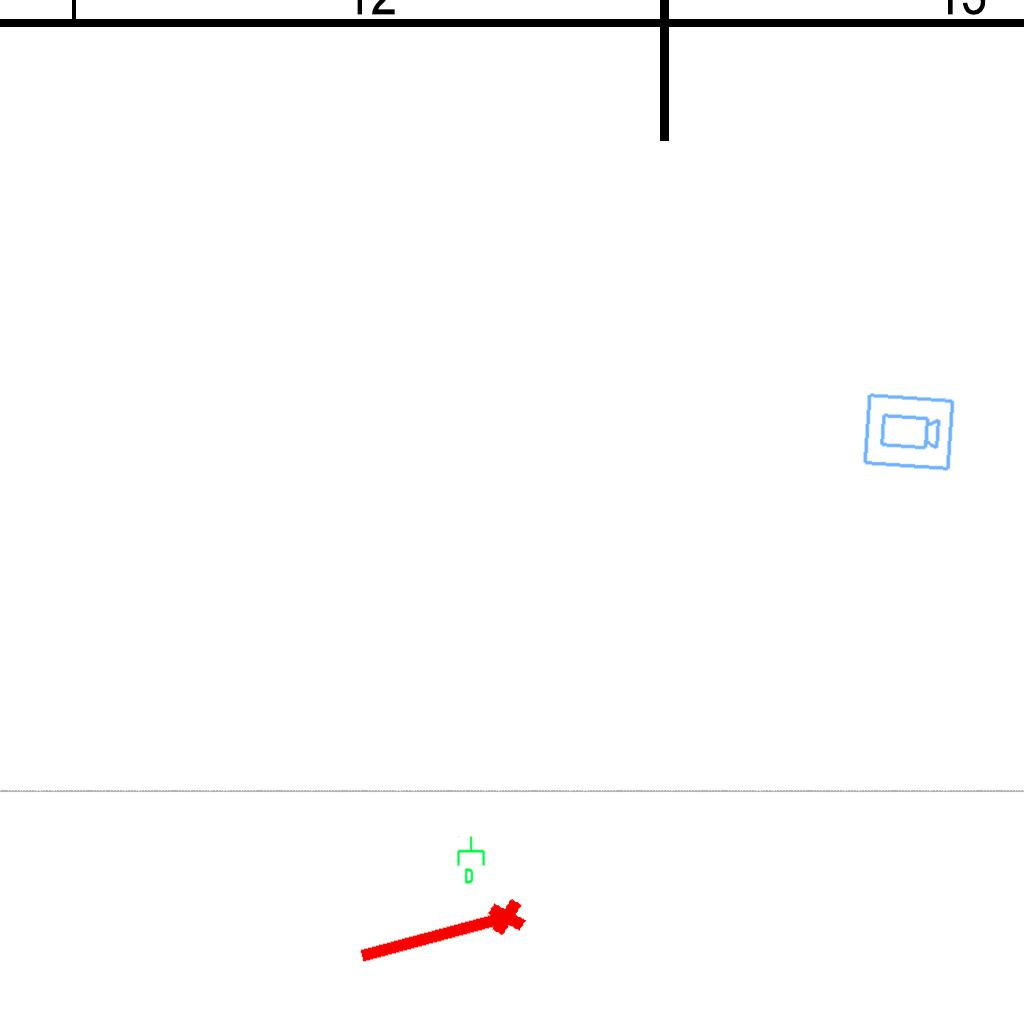ASR_Ansaugoeffnung: (351, 892, 533, 982)
Datenanschluss_einfach: (455, 835, 489, 885)
KFO_Kamera_mit_Festobjektiv: (860, 390, 957, 475)
